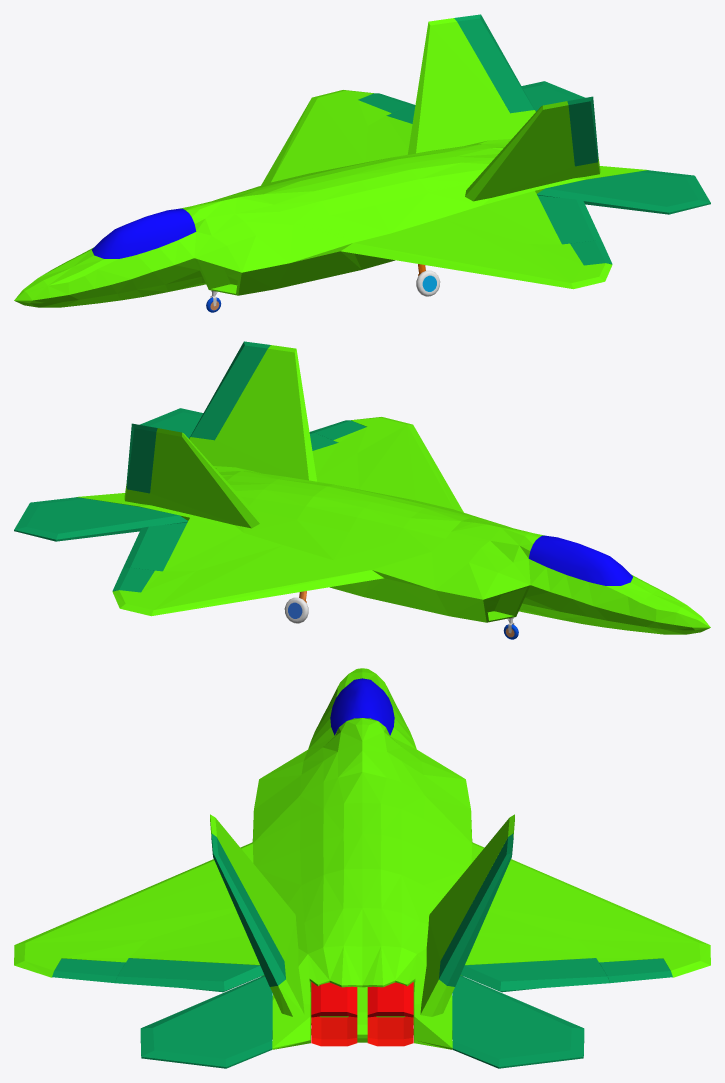
The picture shows the model from 3 angles, top to bottom: view 1: azimuth 30°, elevation 25°; view 2: azimuth 150°, elevation 25°; view 3: azimuth 270°, elevation 25°; orthographic projection. The views are drawn at different scales.
Visible parts, largest first — view 1: Vert, Vert.002, Vert.001, Vert.011, Vert.007, Vert.005, Vert.008, Vert.006, Vert.016, Cylinder.007; view 2: Vert, Vert.008, Vert.001, Vert.005, Vert.004, Vert.011, Vert.002, Vert.016, Vert.006, Cylinder; view 3: Vert, Vert.008, Vert.002, Vert.004, Vert.007, Vert.010, Vert.011, Vert.005, Vert.013, Vert.001, Vert.016, Vert.006.
Boxes of the visible parts, bbox=[...] form: Vert: bbox=[14, 18, 648, 307]; Vert.002: bbox=[537, 170, 710, 214]; Vert.001: bbox=[92, 208, 196, 258]; Vert.011: bbox=[454, 14, 534, 113]; Vert.007: bbox=[537, 195, 601, 244]; Vert.005: bbox=[567, 96, 598, 166]; Vert.008: bbox=[521, 81, 585, 111]; Vert.006: bbox=[570, 240, 612, 265]; Vert.016: bbox=[358, 93, 414, 113]; Cylinder.007: bbox=[416, 264, 440, 296]; Vert: bbox=[76, 345, 710, 634]; Vert.008: bbox=[14, 497, 187, 541]; Vert.001: bbox=[528, 535, 632, 585]; Vert.005: bbox=[190, 341, 270, 440]; Vert.004: bbox=[123, 522, 187, 571]; Vert.011: bbox=[126, 423, 157, 493]; Vert.002: bbox=[139, 408, 203, 438]; Vert.016: bbox=[112, 567, 154, 592]; Vert.006: bbox=[310, 420, 366, 440]; Cylinder: bbox=[284, 591, 308, 623]; Vert: bbox=[14, 668, 710, 1049]; Vert.008: bbox=[452, 975, 584, 1068]; Vert.002: bbox=[140, 975, 272, 1068]; Vert.004: bbox=[460, 958, 609, 992]; Vert.007: bbox=[115, 958, 264, 992]; Vert.010: bbox=[311, 982, 413, 1017]; Vert.011: bbox=[439, 833, 513, 986]; Vert.005: bbox=[211, 833, 285, 986]; Vert.013: bbox=[311, 1016, 413, 1046]; Vert.001: bbox=[330, 678, 394, 735]; Vert.016: bbox=[599, 958, 672, 983]; Vert.006: bbox=[52, 958, 125, 983].
Bounding box in the file's own units: 3185 × 881 × 2297.
